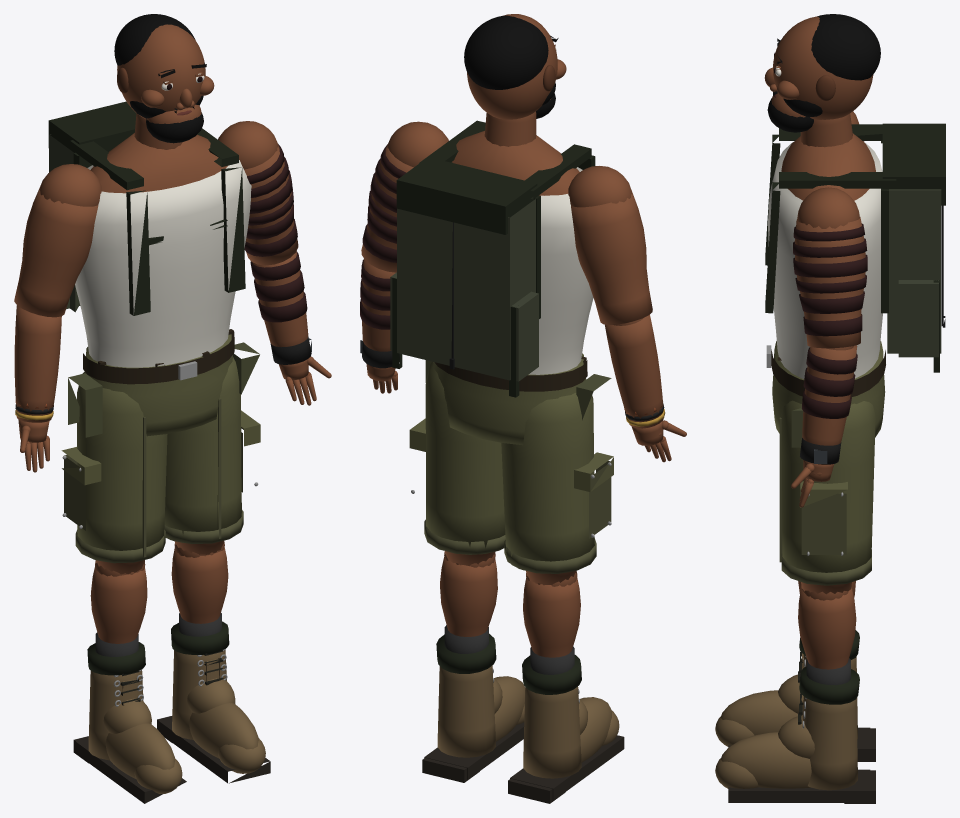
File: player.glb
3 views of the same model, side by side, from view 1: azimuth 30°, elevation 25°; view 2: azimuth 150°, elevation 25°; view 3: azimuth 270°, elevation 25° (orthographic). The views are drawn at different scales.
Parts seen in each view (by area): view 1: tank_top, shorts_leg_R, shorts_leg_L, upper_arm_R, shorts_waist, head, torso_skin, forearm_R, shin_R, shin_L, backpack_flap, boot_foot_L (+41 smaller); view 2: backpack_body, shorts_leg_R, shorts_leg_L, upper_arm_R, tank_top, backpack_flap, shorts_waist, hair_crop, boot_shaft_L, boot_shaft_R, forearm_R, shin_R (+28 smaller); view 3: shorts_leg_L, tank_top, backpack_body, head, boot_shaft_L, backpack_flap, shin_L, hair_crop, upper_arm_L, boot_foot_L, torso_skin, backpack_pocket_L (+37 smaller).
Boxes of the visible parts, box(x1,y1,x2,y2) form: tank_top: box(75, 160, 251, 367); shorts_leg_R: box(77, 371, 167, 550); shorts_leg_L: box(164, 357, 241, 542); upper_arm_R: box(14, 185, 98, 317); shorts_waist: box(84, 334, 232, 436); head: box(117, 24, 205, 119); torso_skin: box(90, 133, 227, 193); forearm_R: box(14, 305, 61, 422); shin_R: box(90, 566, 147, 643); shin_L: box(171, 547, 228, 623); backpack_flap: box(48, 101, 136, 167); boot_foot_L: box(189, 703, 258, 758); backpack_body: box(397, 199, 535, 380); shorts_leg_R: box(501, 378, 594, 570); shorts_leg_L: box(425, 361, 505, 554); upper_arm_R: box(571, 190, 652, 324); tank_top: box(529, 167, 593, 374); backpack_flap: box(396, 157, 537, 234); shorts_waist: box(433, 353, 585, 445); hair_crop: box(464, 15, 548, 89); boot_shaft_L: box(437, 665, 495, 757); boot_shaft_R: box(523, 686, 581, 778); forearm_R: box(604, 314, 664, 428); shin_R: box(523, 577, 580, 657); shorts_leg_L: box(781, 400, 875, 572); tank_top: box(768, 142, 882, 378); backpack_body: box(887, 189, 941, 353); head: box(773, 16, 873, 119); boot_shaft_L: box(802, 696, 857, 790); backpack_flap: box(882, 123, 945, 205); shin_L: box(798, 587, 856, 669); hair_crop: box(811, 14, 880, 80); upper_arm_L: box(794, 217, 865, 348); boot_foot_L: box(720, 732, 811, 788); torso_skin: box(781, 133, 875, 200); backpack_pocket_L: box(898, 280, 938, 357).
Size of the model in its own units: 0.7544 by 1.7 by 0.471.
